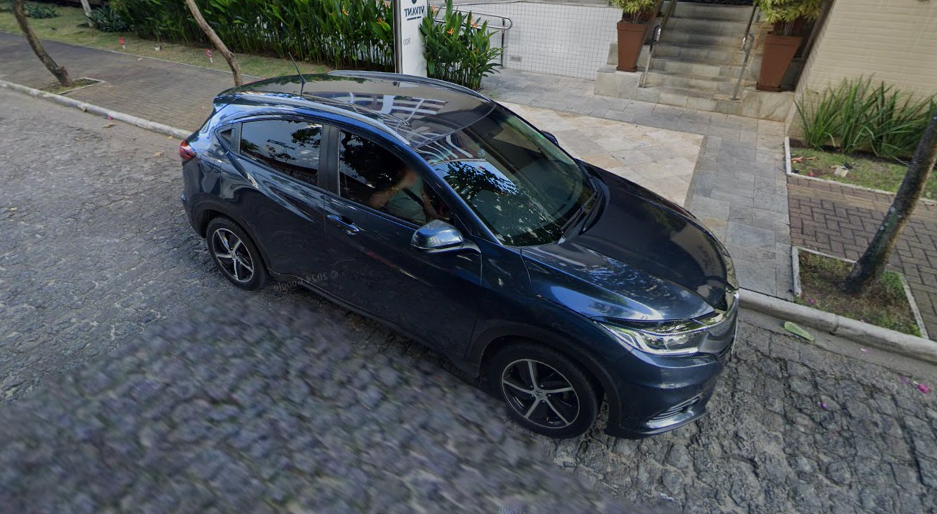car: (177, 47, 742, 443)
